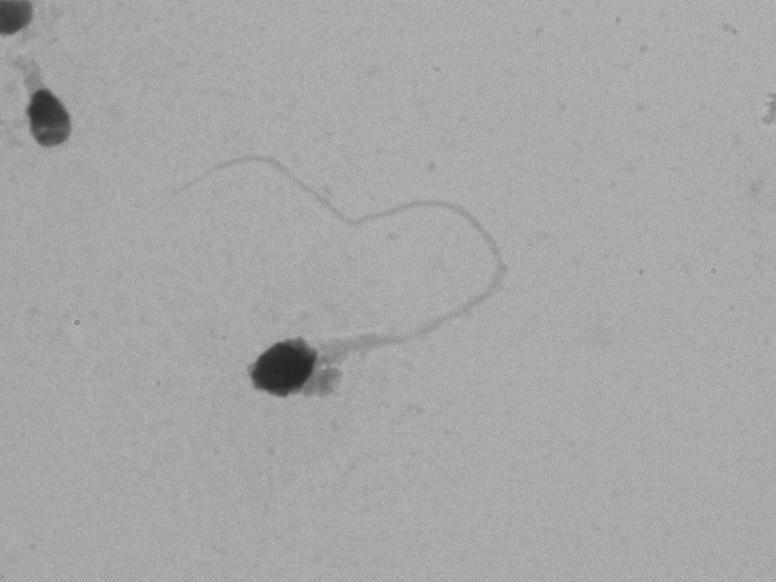Abnormal: (174, 106, 567, 421)
